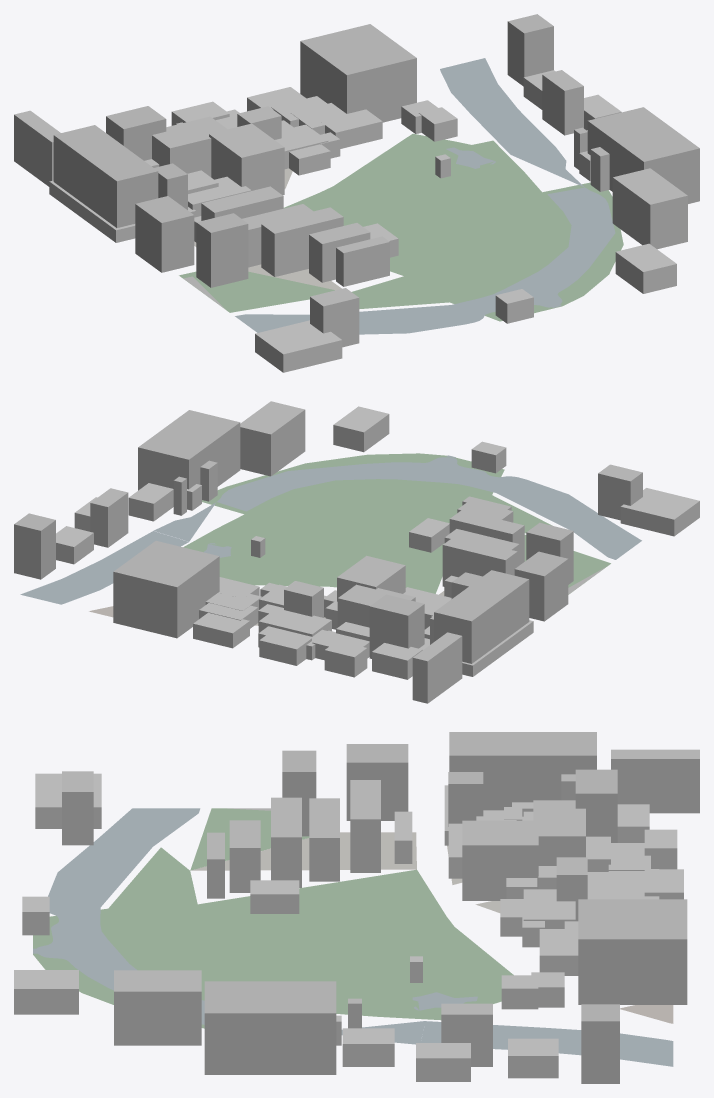
File: 115_100_mid.glb
3 renders of one model, top to bottom at view 1: azimuth 30°, elevation 25°; view 2: azimuth 150°, elevation 25°; view 3: azimuth 270°, elevation 25°, orthographic. The views are drawn at different scales.
Bounding box in the file's own units: 531 × 60.66 × 536.
